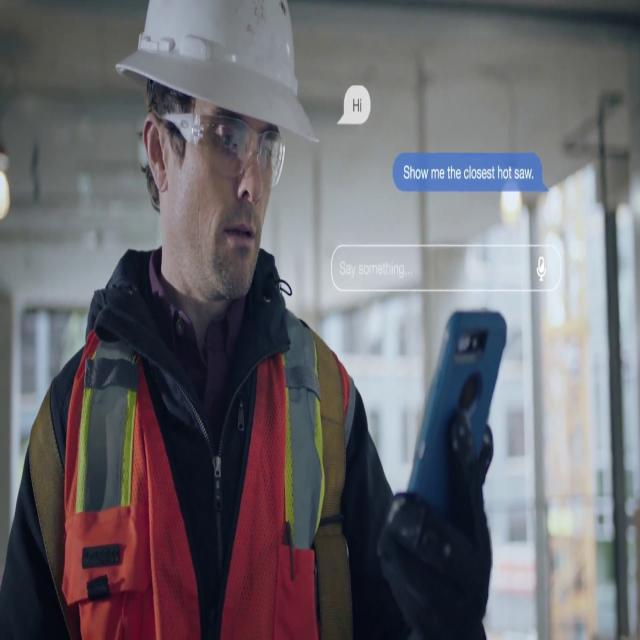Reflective-Jacket: (41, 270, 364, 636)
Safety-Helmet: (117, 0, 321, 158)
